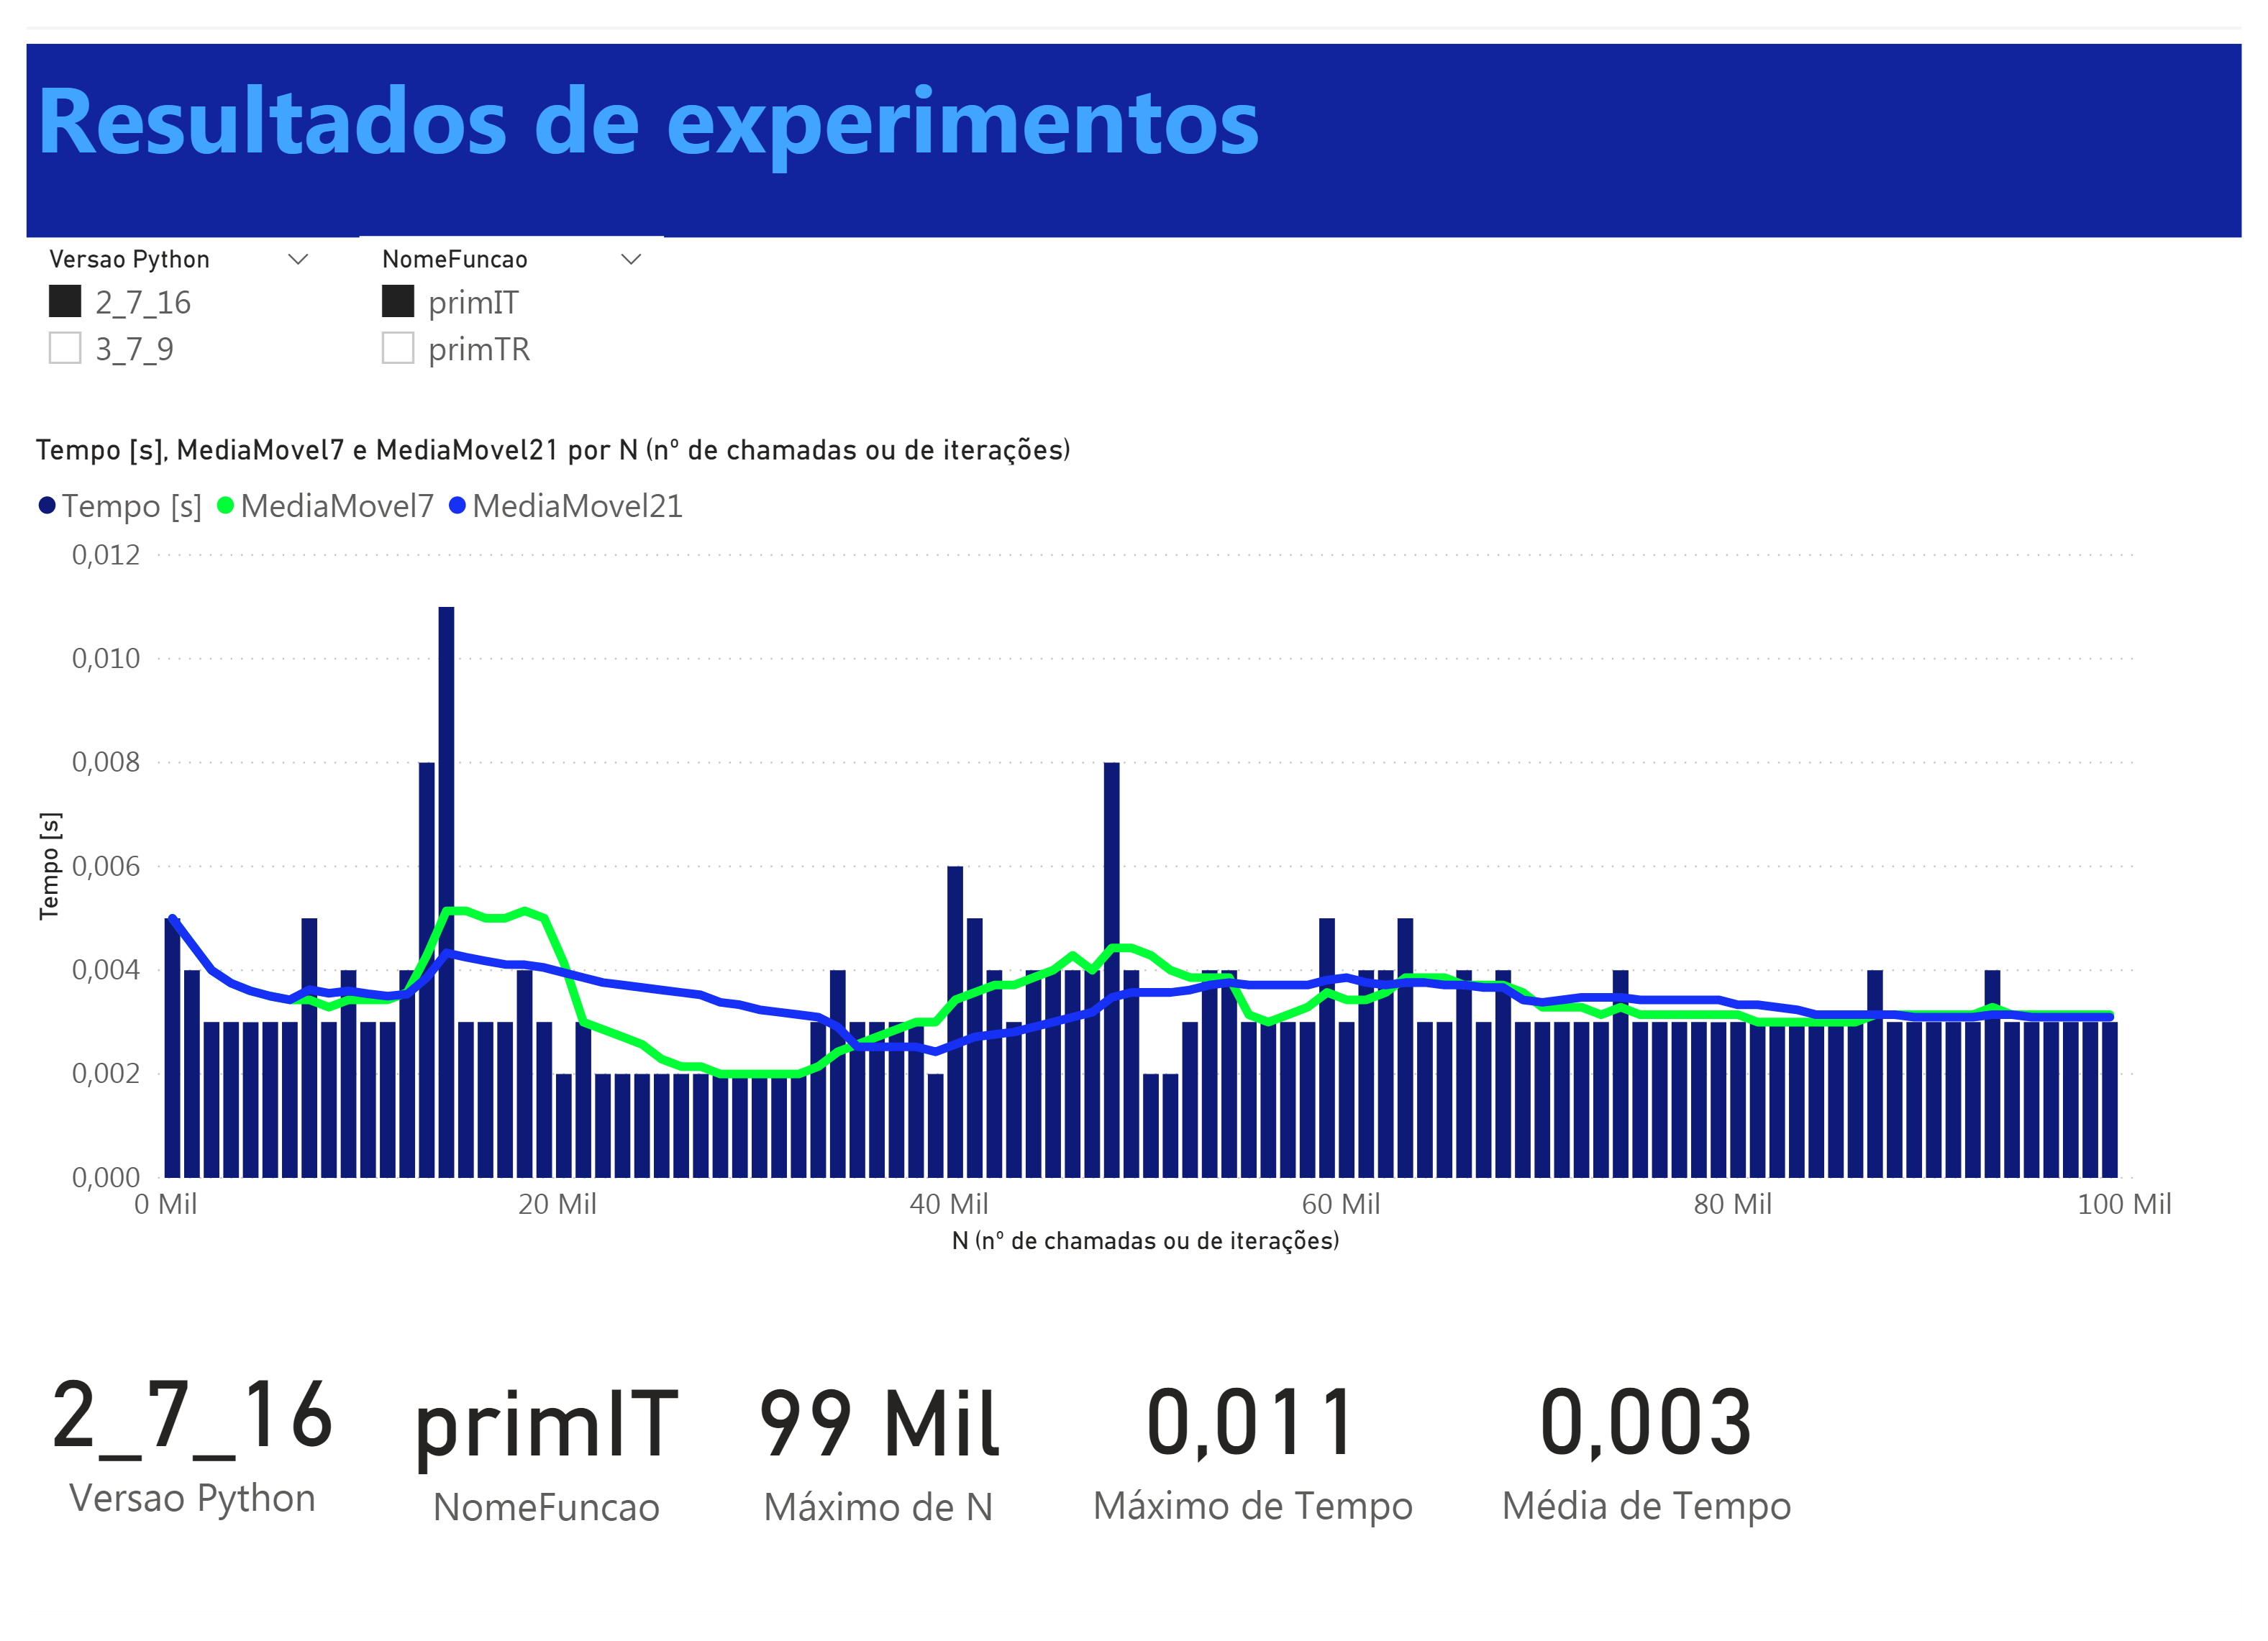

What the dashboard file says about the page in this screenshot:
{"tool":"powerbi","page":{"name":"Primo","canvas":[1280,900],"ordinal":10},"visuals":[{"type":"card","fields":{"Values":["Max(Tabela1.Tempo)"]},"box":[600,744,216,120],"z":0},{"type":"card","fields":{"Values":["Min(Tabela1.NomeFuncao)"]},"box":[192,720,216,168],"z":1000},{"type":"card","fields":{"Values":["Max(Tabela1.N)"]},"box":[408,720,168,168],"z":2000},{"type":"card","fields":{"Values":["Avg(Tabela1.Tempo)"]},"box":[840,744,192,120],"z":3000},{"type":"slicer","fields":{"Values":["Tabela1.Versao Python"]},"box":[0,112,176,112],"z":4000},{"type":"card","fields":{"Values":["Min(Tabela1.Versao Python)"]},"box":[0,704,192,192],"z":5000},{"type":"textbox","box":[0,0,1280,112],"z":6000},{"type":"slicer","fields":{"Values":["Tabela1.NomeFuncao"]},"box":[192,112,176,112],"z":7000},{"type":"lineClusteredColumnComboChart","fields":{"Y":["Sum(Tabela1.Tempo)"],"Category":["Tabela1.N"],"Y2":["Tabela1.MediaMovel7","Tabela1.MediaMovel7Numeros"]},"box":[0,224,1248,480],"z":8000}]}

Visuals, with their boxes in screenshot pixels (x1, y1, x2, y2), scaled from the page's 1280x900 canvas onto the 2268x1641 screenshot:
card - Max(Tabela1.Tempo): Rect(1063, 1356, 1446, 1576)
card - Min(Tabela1.NomeFuncao): Rect(340, 1313, 723, 1619)
card - Max(Tabela1.N): Rect(723, 1313, 1021, 1619)
card - Avg(Tabela1.Tempo): Rect(1488, 1356, 1828, 1576)
slicer - Tabela1.Versao Python: Rect(0, 204, 312, 408)
card - Min(Tabela1.Versao Python): Rect(0, 1284, 340, 1634)
textbox: Rect(0, 0, 2267, 204)
slicer - Tabela1.NomeFuncao: Rect(340, 204, 652, 408)
lineClusteredColumnComboChart - Sum(Tabela1.Tempo) x Tabela1.N: Rect(0, 408, 2211, 1284)
